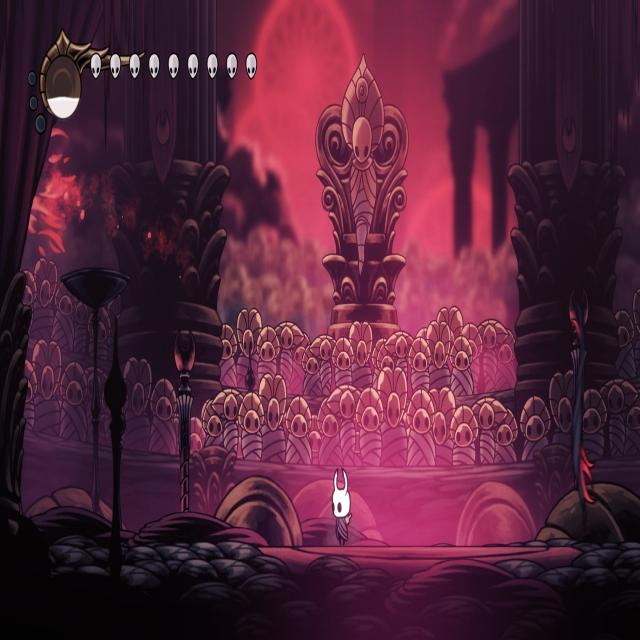Player: (332, 465, 354, 549)
